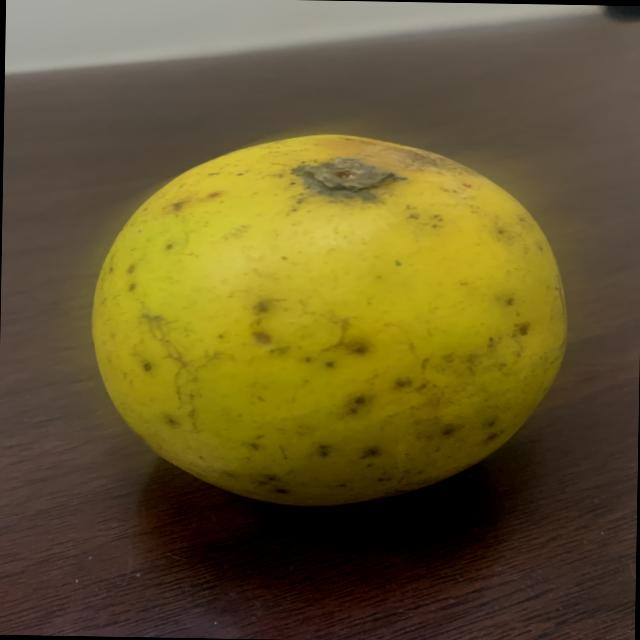agrume: (71, 119, 594, 521)
